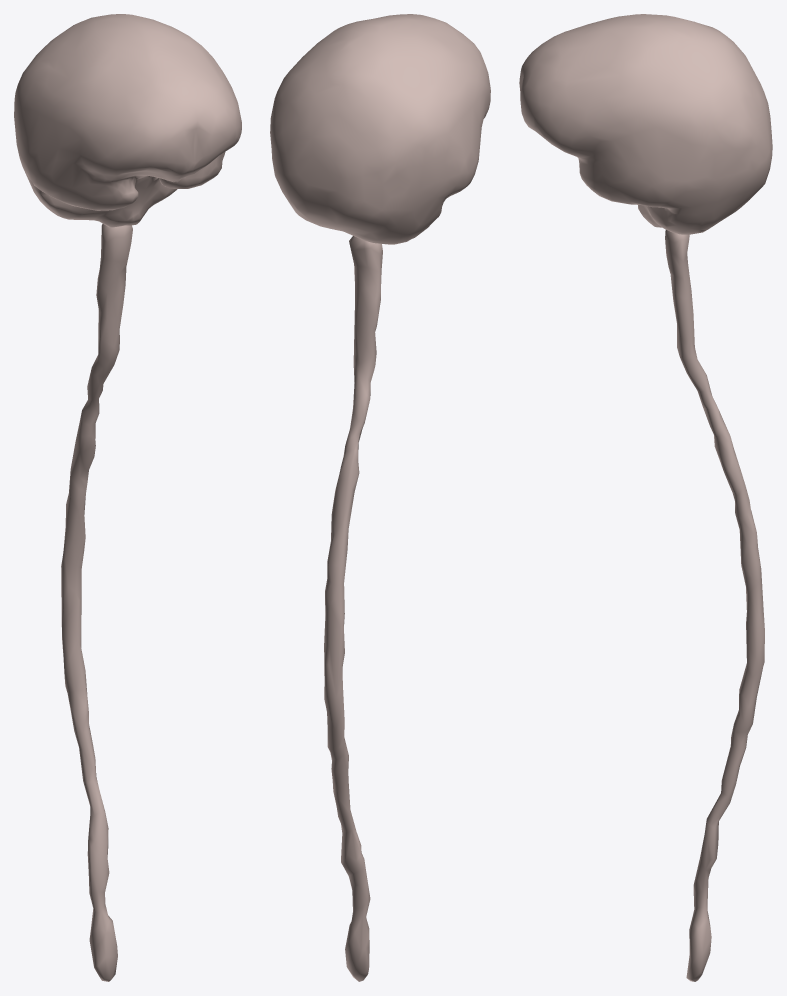
The model's file is pediatric_adolescent_female.nervous.LOD0.glb.
3 renders of one model, left to right at view 1: azimuth 30°, elevation 25°; view 2: azimuth 150°, elevation 25°; view 3: azimuth 270°, elevation 25°, orthographic. The views are drawn at different scales.
Visible parts, largest first — view 1: PEDIATRIC.ADOLESCENT.FEMALE.NERVOUS.BRAIN, PEDIATRIC.ADOLESCENT.FEMALE.NERVOUS.SPINAL_CORD; view 2: PEDIATRIC.ADOLESCENT.FEMALE.NERVOUS.BRAIN, PEDIATRIC.ADOLESCENT.FEMALE.NERVOUS.SPINAL_CORD; view 3: PEDIATRIC.ADOLESCENT.FEMALE.NERVOUS.BRAIN, PEDIATRIC.ADOLESCENT.FEMALE.NERVOUS.SPINAL_CORD.
Part boxes in pixels (x1,y1,x2,y2): PEDIATRIC.ADOLESCENT.FEMALE.NERVOUS.BRAIN: (14,14,241,227); PEDIATRIC.ADOLESCENT.FEMALE.NERVOUS.SPINAL_CORD: (61,224,132,981); PEDIATRIC.ADOLESCENT.FEMALE.NERVOUS.BRAIN: (270,14,490,244); PEDIATRIC.ADOLESCENT.FEMALE.NERVOUS.SPINAL_CORD: (324,236,382,981); PEDIATRIC.ADOLESCENT.FEMALE.NERVOUS.BRAIN: (519,14,772,234); PEDIATRIC.ADOLESCENT.FEMALE.NERVOUS.SPINAL_CORD: (665,230,764,981).
Size of the model in its own units: 0.1309 by 0.6522 by 0.156.
